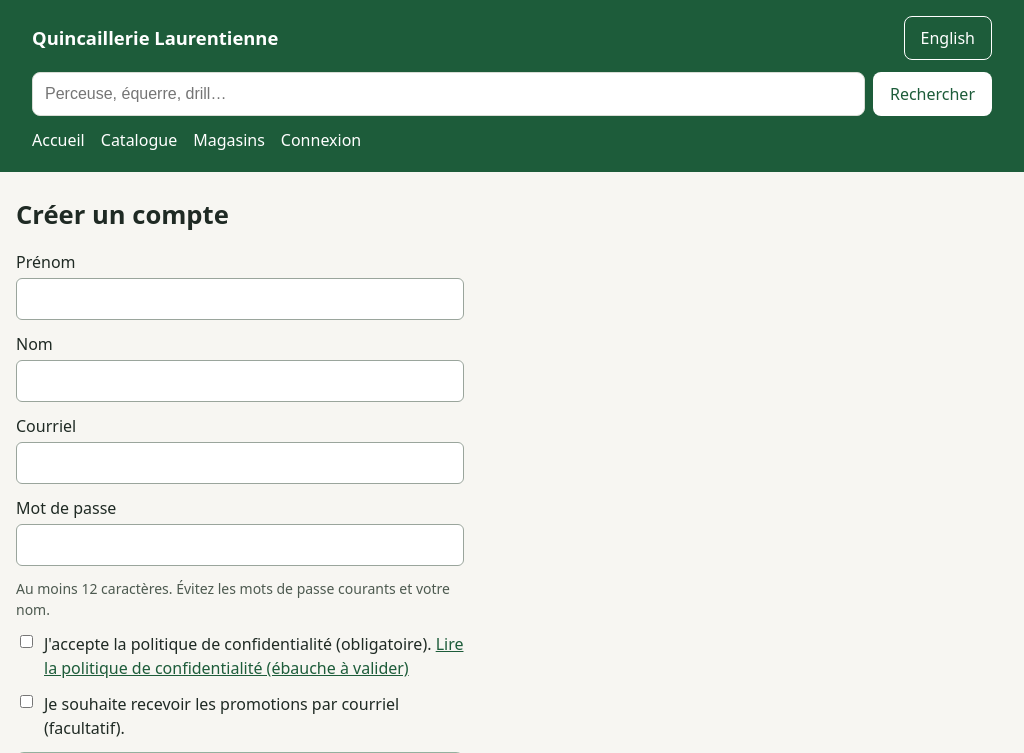
Test: Inscription (A-AUTH-01) › envoie le formulaire et affiche le message neutre
Type "Marie" into the field labelled "Prénom" at (240, 299), box [16,278,464,320]
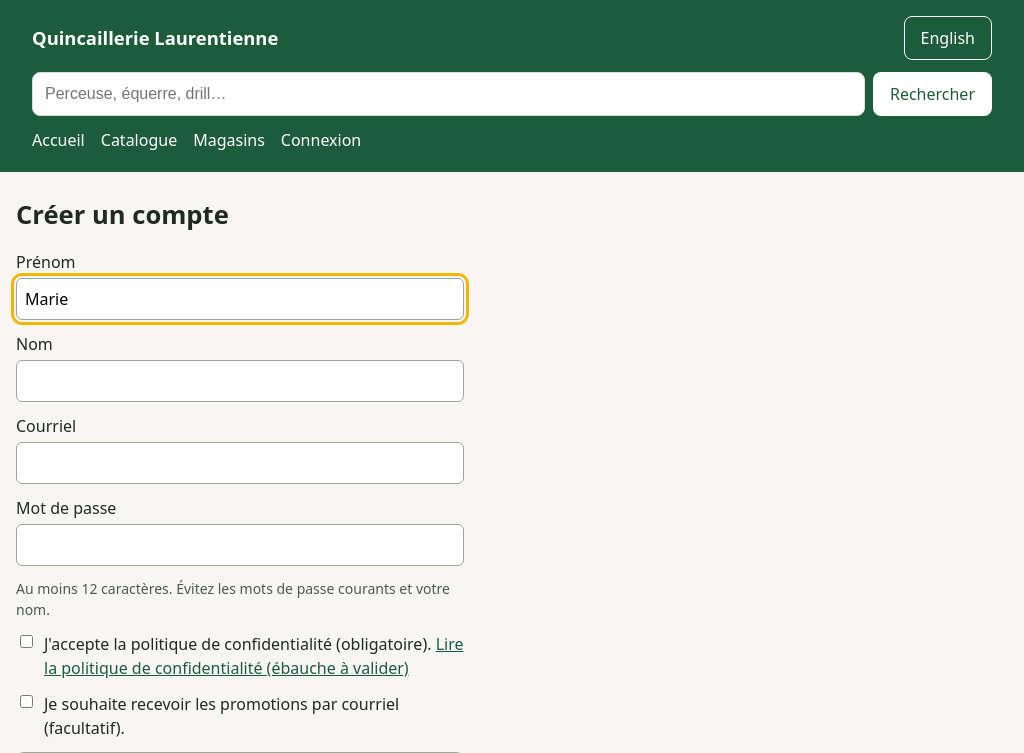
Type "Tremblay" into the field labelled "Nom" at (240, 381), box [16,360,464,402]
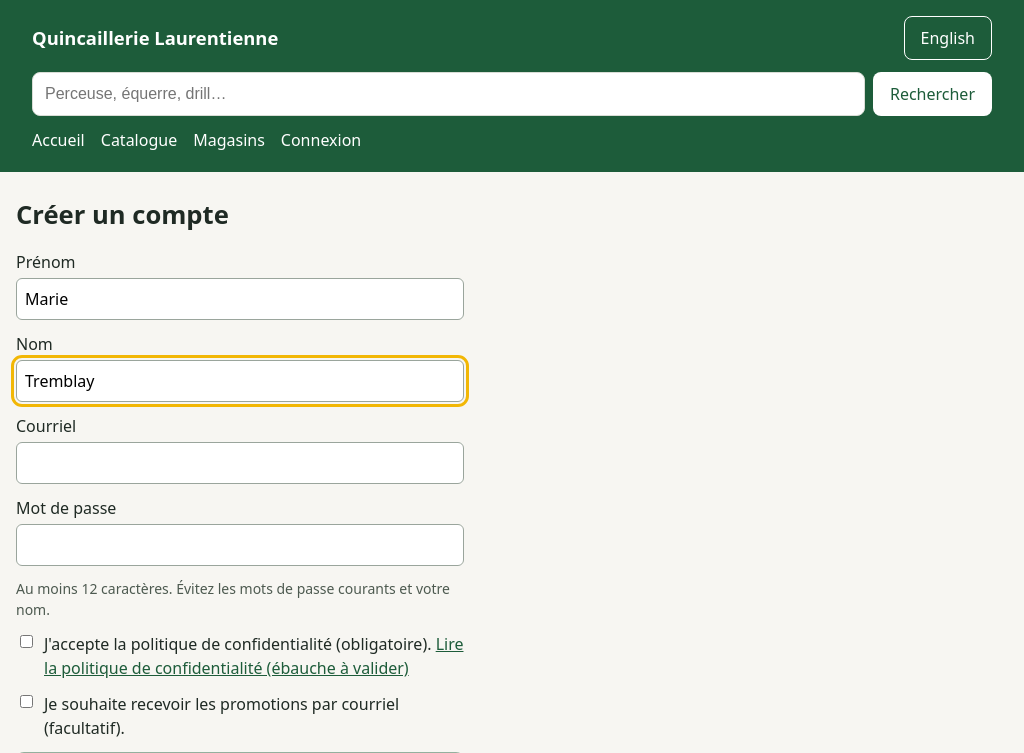
Type " marie@example.com " into the field labelled "Courriel" at (240, 463), box [16,442,464,484]
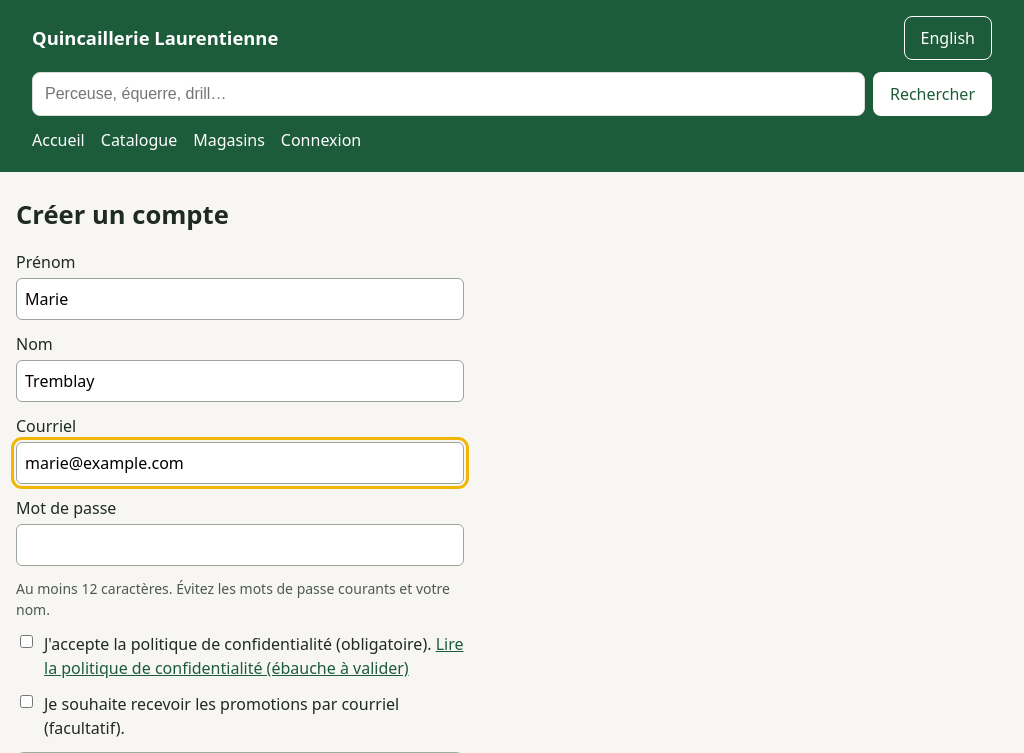
Type "Scie-a-onglet-2026" into the password field labelled "Mot de passe" at (240, 545), box [16,524,464,566]
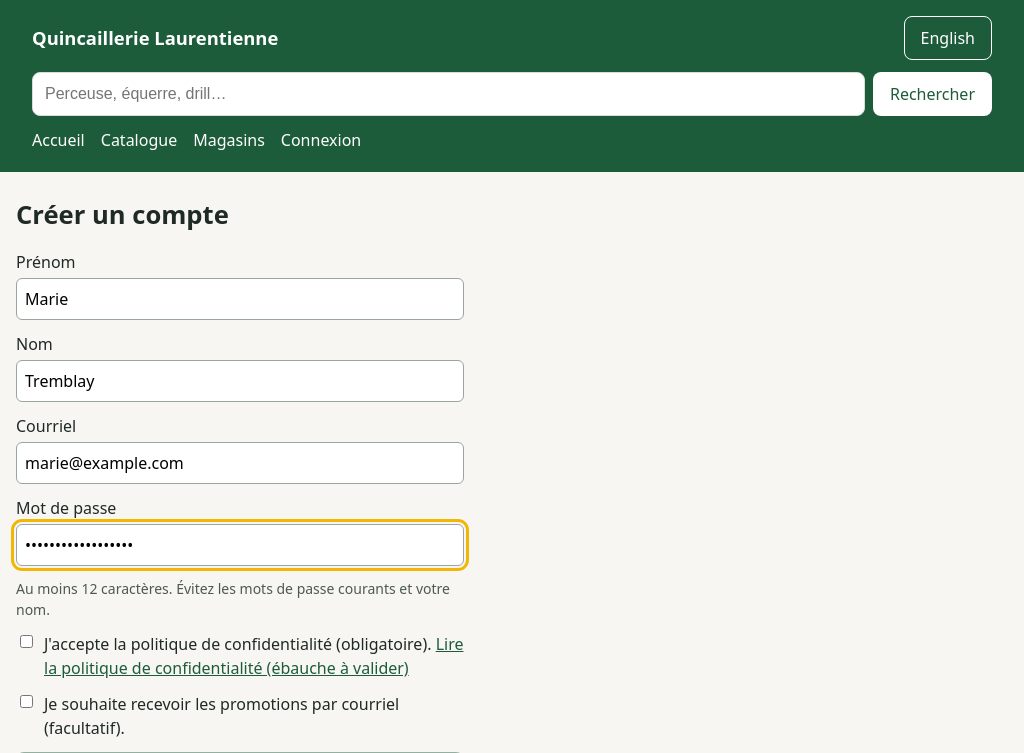
Click the checkbox labelled "politique de confidentialité" at (26, 642), box [20,635,33,648]
(page scrolled)
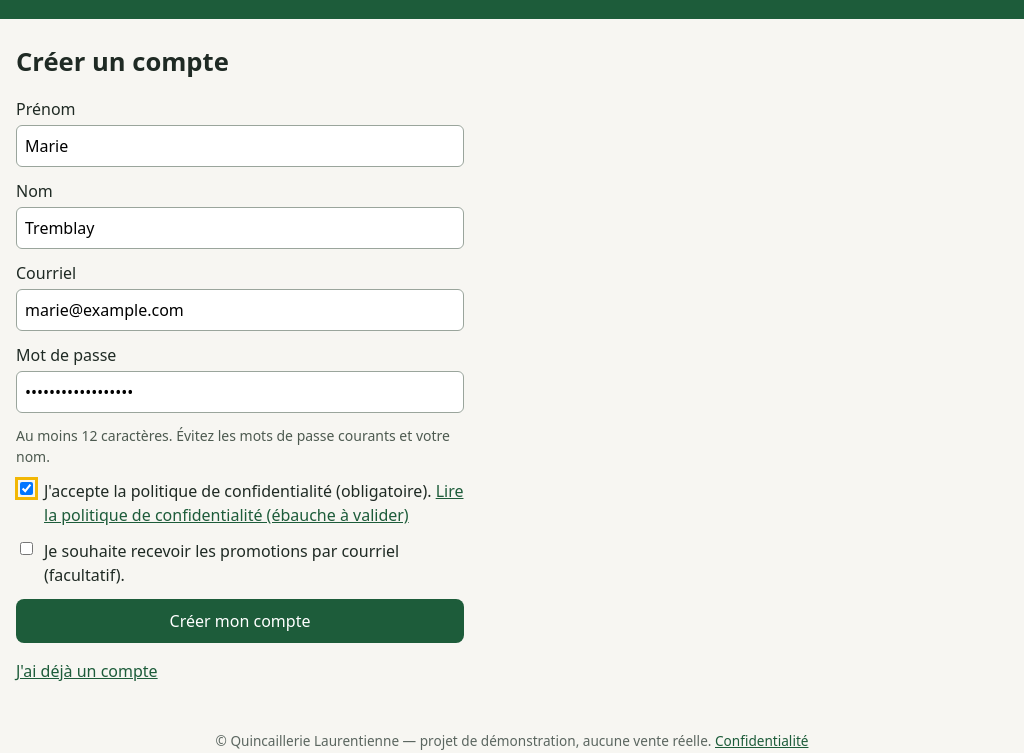
Click the button "Créer mon compte" at (240, 621), box [16,599,464,643]
(page scrolled)
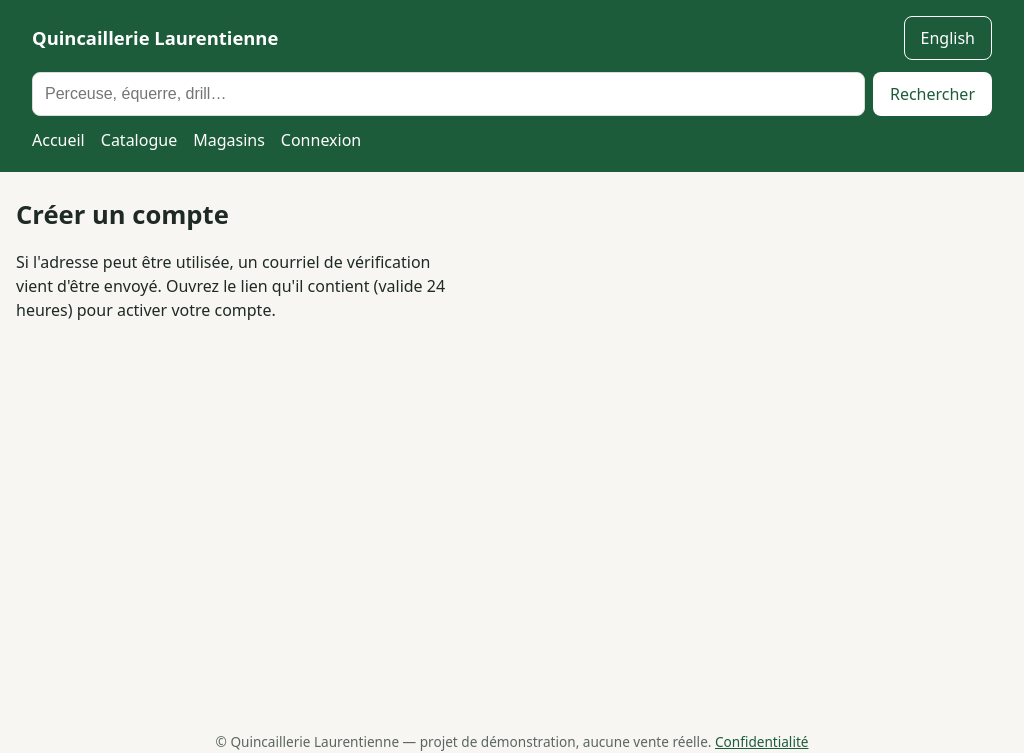
Now the text "un courriel de vérification vient d'être envoyé" is shown, box [16,251,445,321]
